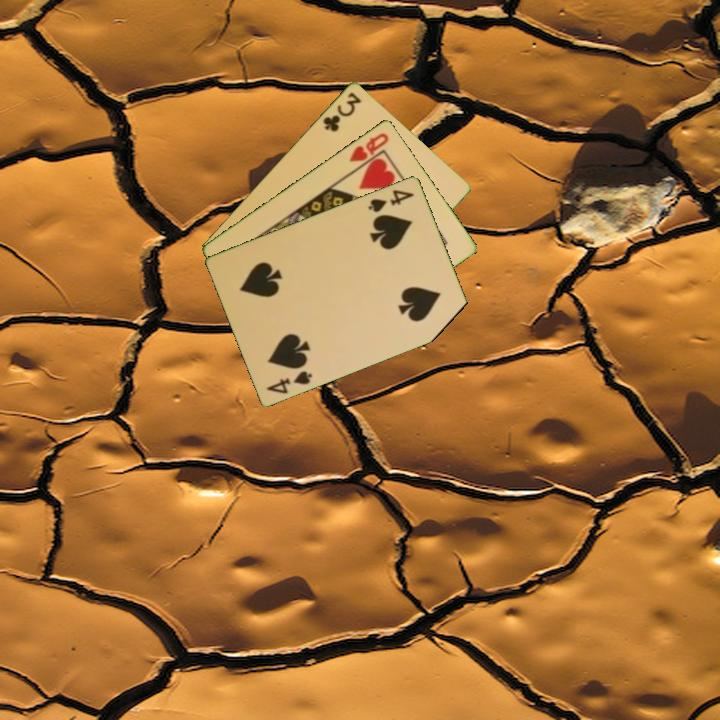3c: (319, 88, 364, 135)
4s: (365, 186, 417, 215), (263, 367, 315, 396)
Qh: (346, 129, 392, 165)
